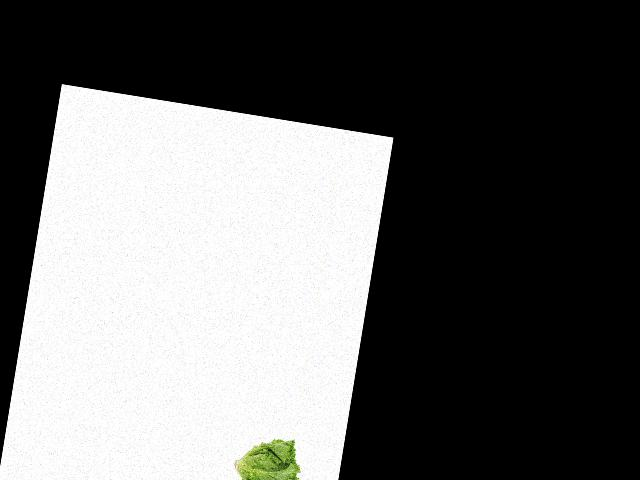lettuce: (226, 429, 308, 480)
